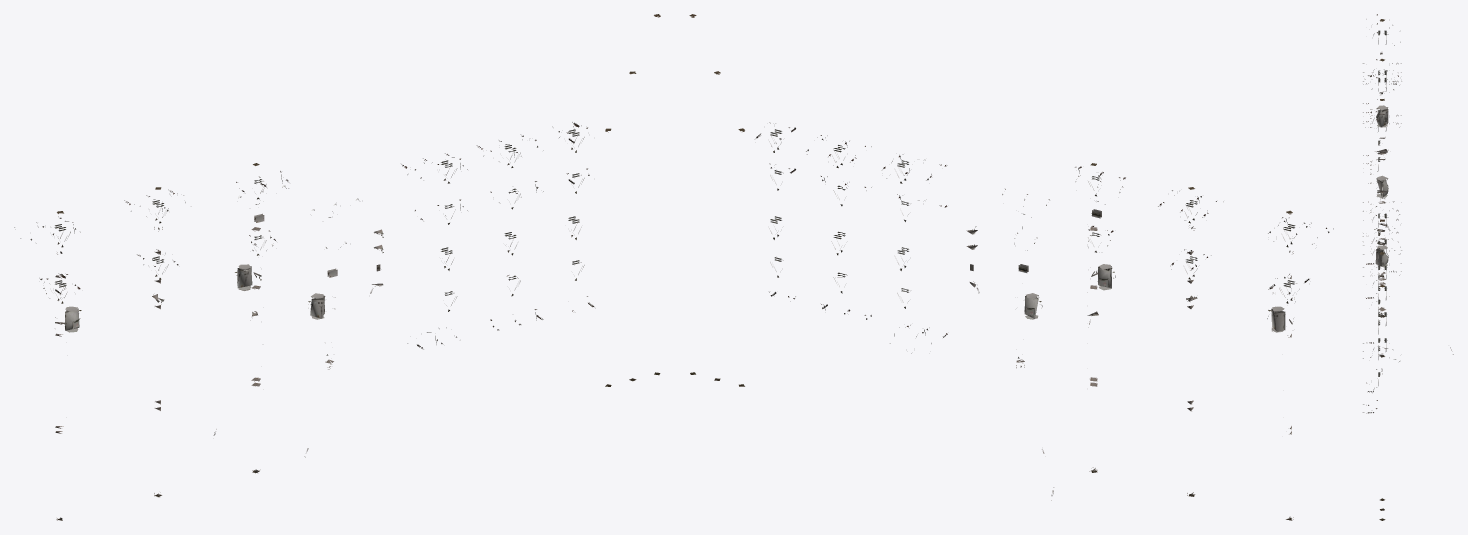
The model's file is electricity_pole.glb.
3 renders of one model, left to right at view 1: azimuth 30°, elevation 25°; view 2: azimuth 150°, elevation 25°; view 3: azimuth 270°, elevation 25°, orthographic. The views are drawn at different scales.
Parts seen in each view (by area): view 1: electricity_pole; view 2: electricity_pole; view 3: electricity_pole.
Boxes of the visible parts, x1,y1,x2,y2 form: electricity_pole: (14,14,660,520); electricity_pole: (689,14,1333,520); electricity_pole: (1362,14,1453,520).
Size of the model in its own units: 14.85 by 8 by 2.21.
Materials: 2 (2 with a texture image).
